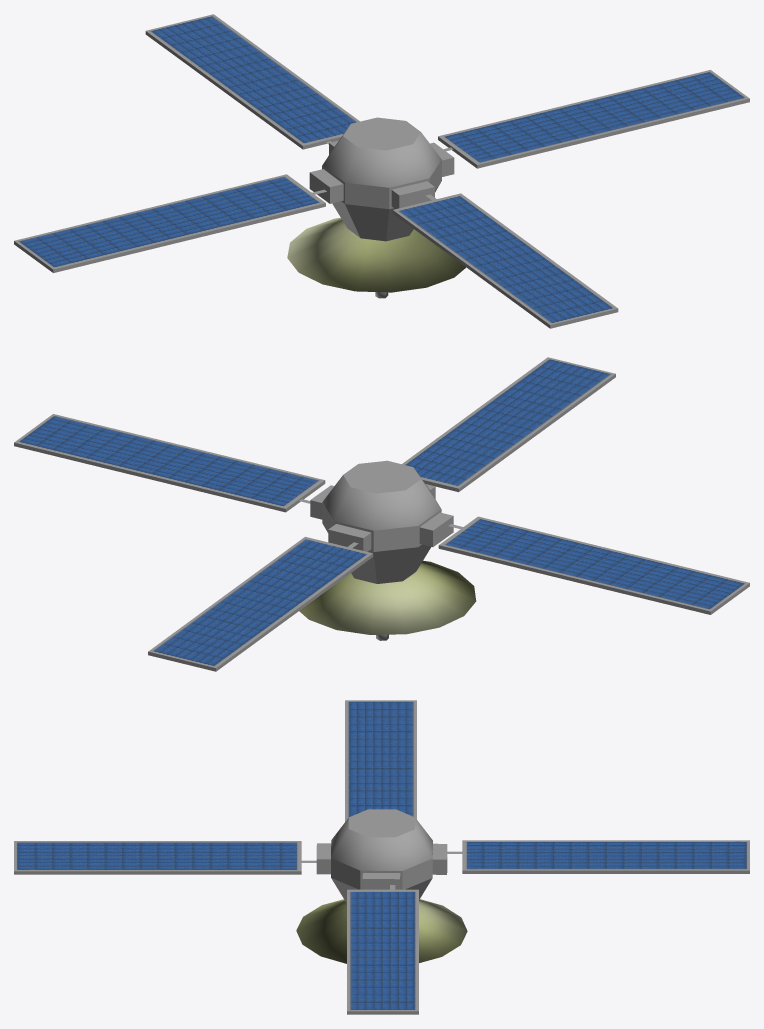
Rendered from Satellite.DAE.
3 views of the same model, one above another, from view 1: azimuth 30°, elevation 25°; view 2: azimuth 150°, elevation 25°; view 3: azimuth 270°, elevation 25° (orthographic). The views are drawn at different scales.
Visible parts, largest first — view 1: Satellite; view 2: Satellite; view 3: Satellite.
Boxes of the visible parts, box(x1,y1,x2,y2) form: Satellite: box(14, 14, 749, 328); Satellite: box(14, 357, 749, 671); Satellite: box(14, 700, 749, 1014).
Bounding box in the file's own units: 550 × 122 × 550.
1 material, 1 textured.
